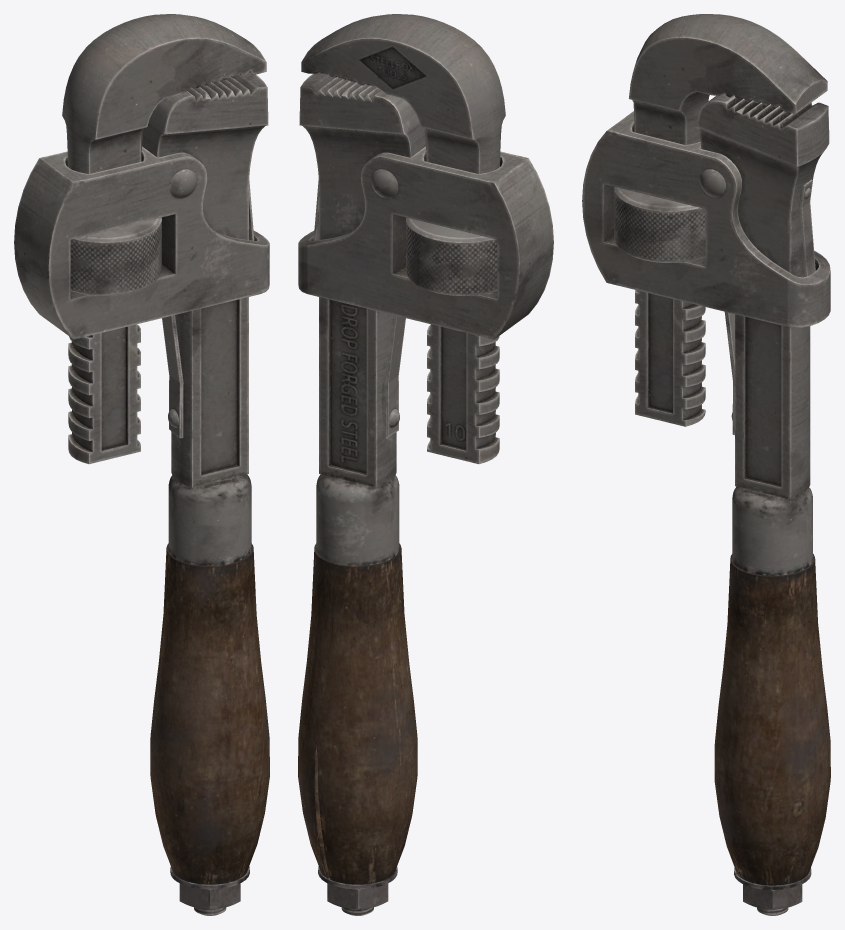
Rendered from adjustable_wrench.gltf.
3 renders of one model, left to right at view 1: azimuth 30°, elevation 25°; view 2: azimuth 150°, elevation 25°; view 3: azimuth 330°, elevation 25°, orthographic. The views are drawn at different scales.
Visible parts, largest first — view 1: adjustable_wrench, adjustable_wrench_jaw, adjustable_wrench_nut; view 2: adjustable_wrench, adjustable_wrench_jaw, adjustable_wrench_nut; view 3: adjustable_wrench, adjustable_wrench_jaw, adjustable_wrench_nut.
Part boxes in pixels (x1,y1,x2,y2): adjustable_wrench: (14,72,269,915); adjustable_wrench_jaw: (62,14,266,464); adjustable_wrench_nut: (70,217,161,295); adjustable_wrench: (298,72,553,915); adjustable_wrench_jaw: (301,14,505,464); adjustable_wrench_nut: (406,217,497,295); adjustable_wrench: (582,93,830,915); adjustable_wrench_jaw: (629,14,827,426); adjustable_wrench_nut: (614,187,705,262).
Bounding box in the file's own units: 0.0683 × 0.2541 × 0.0306.
1 material, 1 textured.
